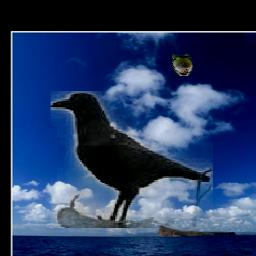Crow: (49, 92, 212, 229)
Sparrow: (171, 54, 191, 76)
